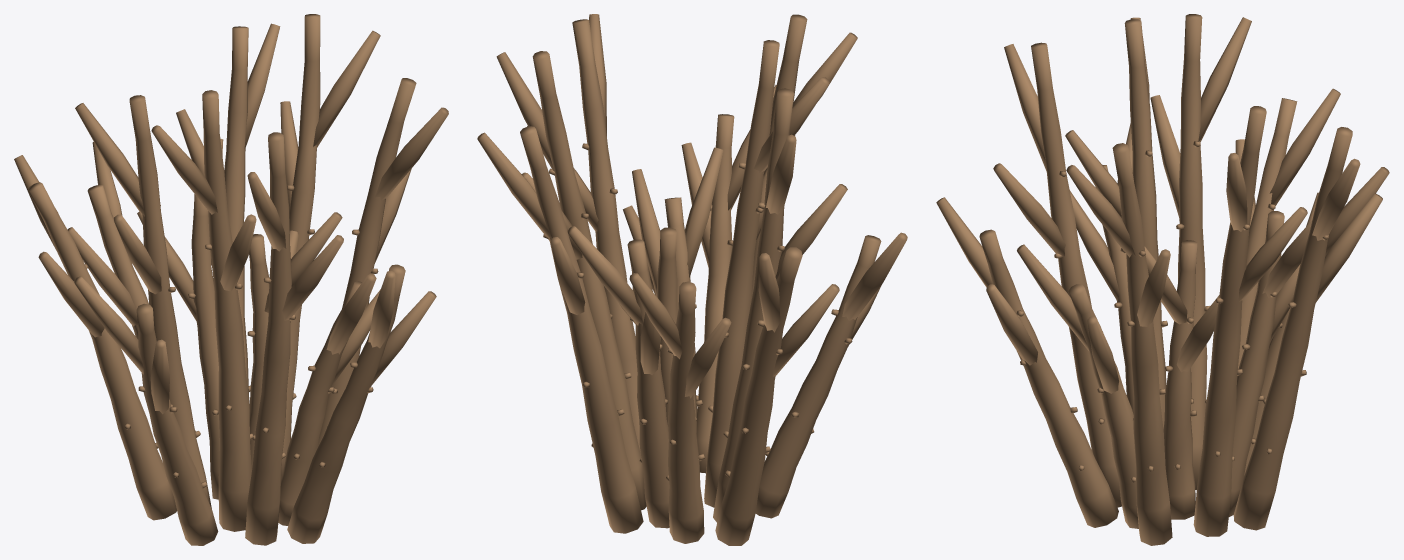
File: montidigi-mobile.glb
The picture shows the model from 3 angles, left to right: view 1: azimuth 30°, elevation 25°; view 2: azimuth 150°, elevation 25°; view 3: azimuth 270°, elevation 25°; orthographic projection. The views are drawn at different scales.
Visible parts, largest first — view 1: branch, lateral-branch, radial-corallite; view 2: branch, lateral-branch, radial-corallite; view 3: branch, lateral-branch, radial-corallite.
Boxes of the visible parts, bbox=[...] form: branch: bbox=[27, 14, 416, 545]; lateral-branch: bbox=[14, 23, 448, 414]; radial-corallite: bbox=[85, 185, 378, 488]; branch: bbox=[520, 14, 881, 545]; lateral-branch: bbox=[477, 14, 907, 398]; radial-corallite: bbox=[543, 143, 852, 480]; branch: bbox=[979, 14, 1352, 545]; lateral-branch: bbox=[936, 17, 1389, 393]; radial-corallite: bbox=[1016, 141, 1328, 482].
Bounding box in the file's own units: 0.4865 × 0.5924 × 0.5257.
